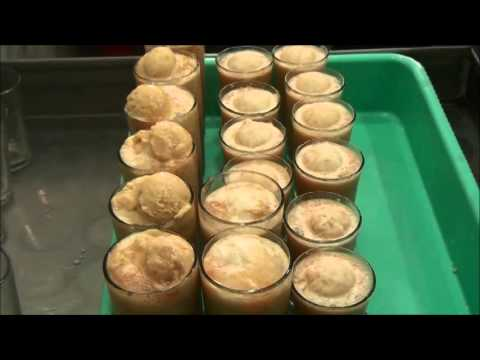jigirthanda: (114, 239, 190, 287), (207, 242, 281, 284), (301, 258, 368, 302), (122, 180, 181, 220), (212, 178, 275, 213), (289, 204, 354, 234), (130, 134, 186, 165), (305, 146, 356, 176), (138, 50, 191, 78), (224, 86, 277, 110), (227, 121, 277, 145), (130, 90, 181, 113), (302, 104, 346, 126), (226, 50, 266, 72), (294, 74, 334, 89), (278, 47, 321, 59)
